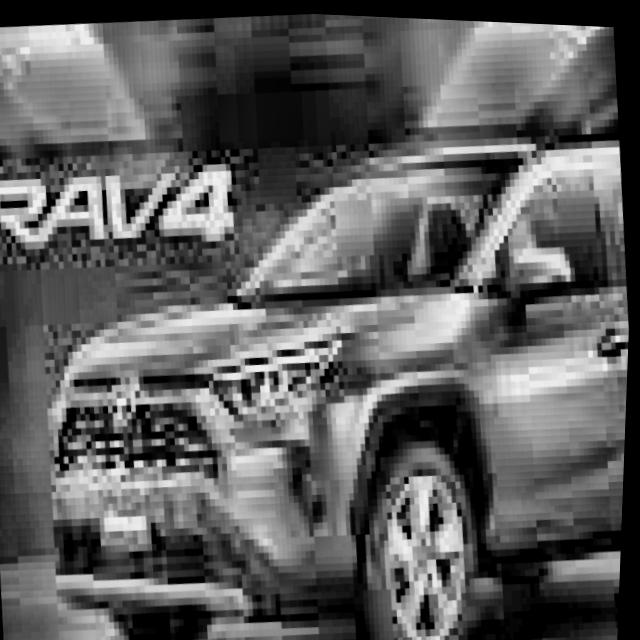light_vehicle: (16, 106, 637, 640)
